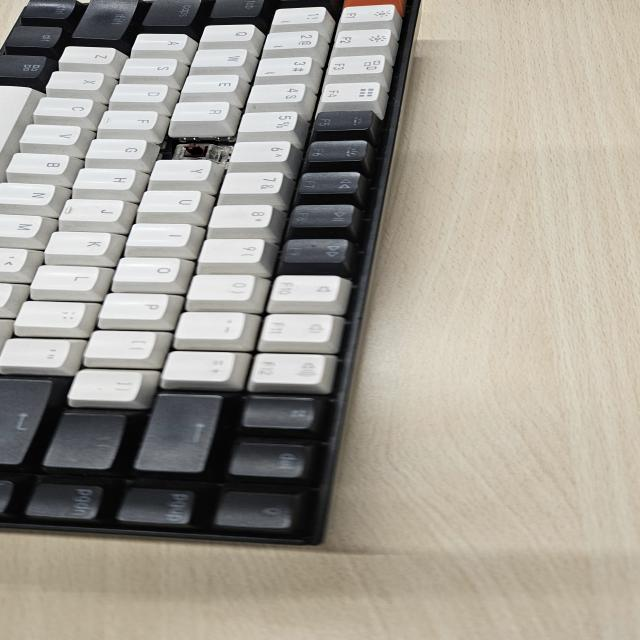C: (172, 140, 218, 159)
